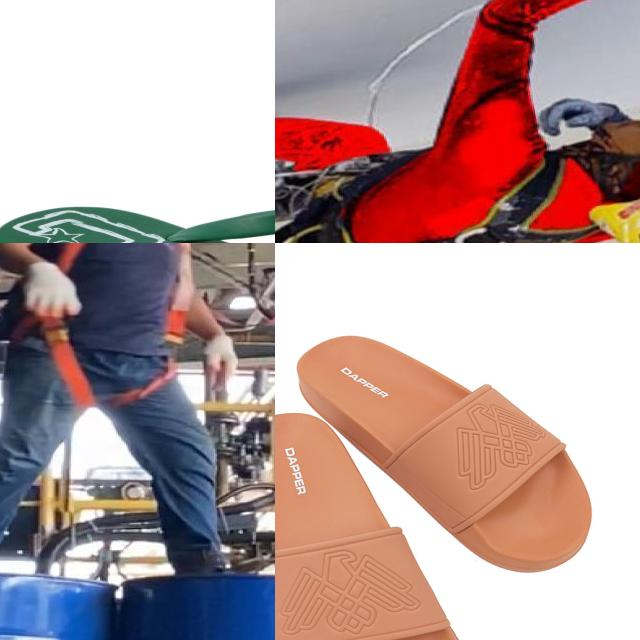Harness: (275, 99, 621, 243), (35, 243, 195, 412)
Sandals: (275, 327, 614, 640)
